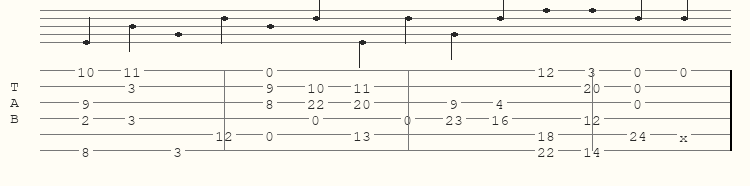0: (265, 64, 278, 77), (265, 128, 278, 141), (311, 112, 324, 125), (403, 112, 416, 125), (633, 64, 646, 77), (633, 80, 646, 93), (633, 96, 646, 109), (679, 64, 692, 77)
10: (77, 64, 99, 77), (307, 80, 329, 93)
11: (123, 64, 145, 77), (353, 80, 375, 93)
12: (215, 128, 237, 141), (537, 64, 559, 77), (583, 112, 605, 125)
13: (353, 128, 375, 141)
14: (583, 144, 605, 157)
16: (491, 112, 513, 125)
18: (537, 128, 559, 141)
2: (81, 112, 94, 125)
20: (353, 96, 375, 109), (583, 80, 605, 93)
22: (307, 96, 329, 109), (537, 144, 559, 157)
23: (445, 112, 467, 125)
24: (629, 128, 651, 141)
3: (127, 80, 140, 93), (127, 112, 140, 125), (173, 144, 186, 157), (587, 64, 600, 77)
4: (495, 96, 508, 109)
8: (81, 144, 94, 157), (265, 96, 278, 109)
9: (81, 96, 94, 109), (265, 80, 278, 93), (449, 96, 462, 109)
x: (679, 129, 692, 139)
